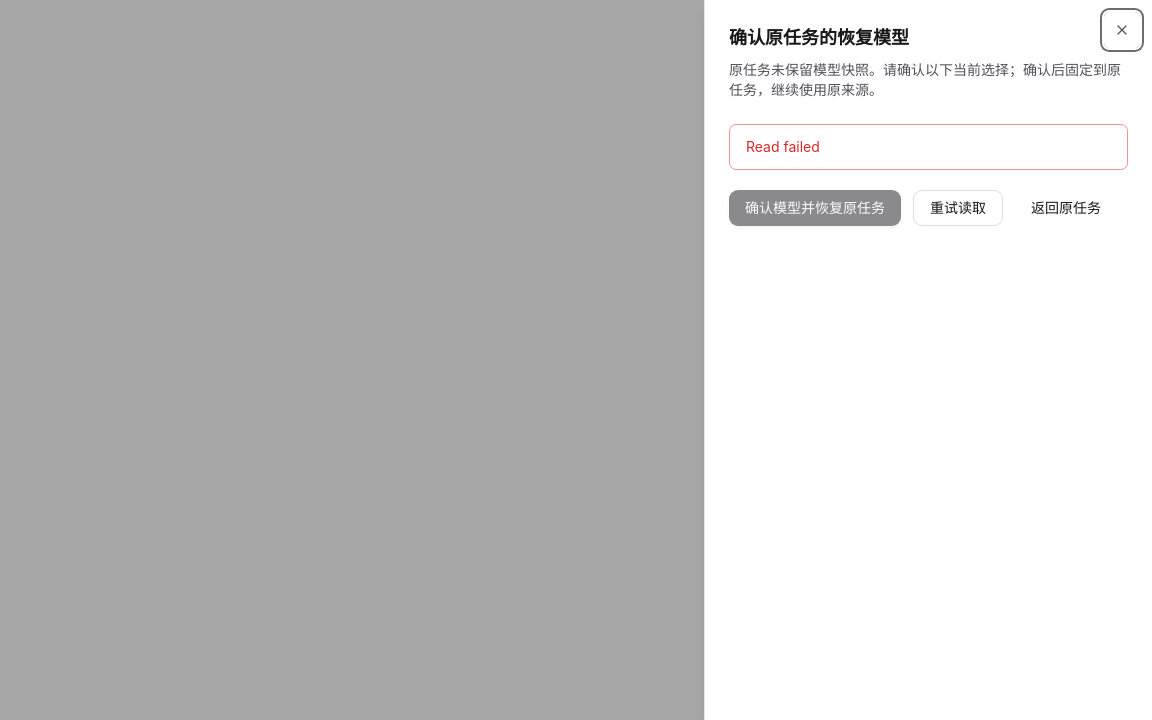
Scenario: retries a failed read and a known rejected confirmation without claiming acceptance
Expected: the text "Read failed" is shown, [746,138,820,155]
Click the button "重试读取".
click(958, 208)  # box [913,190,1003,226]
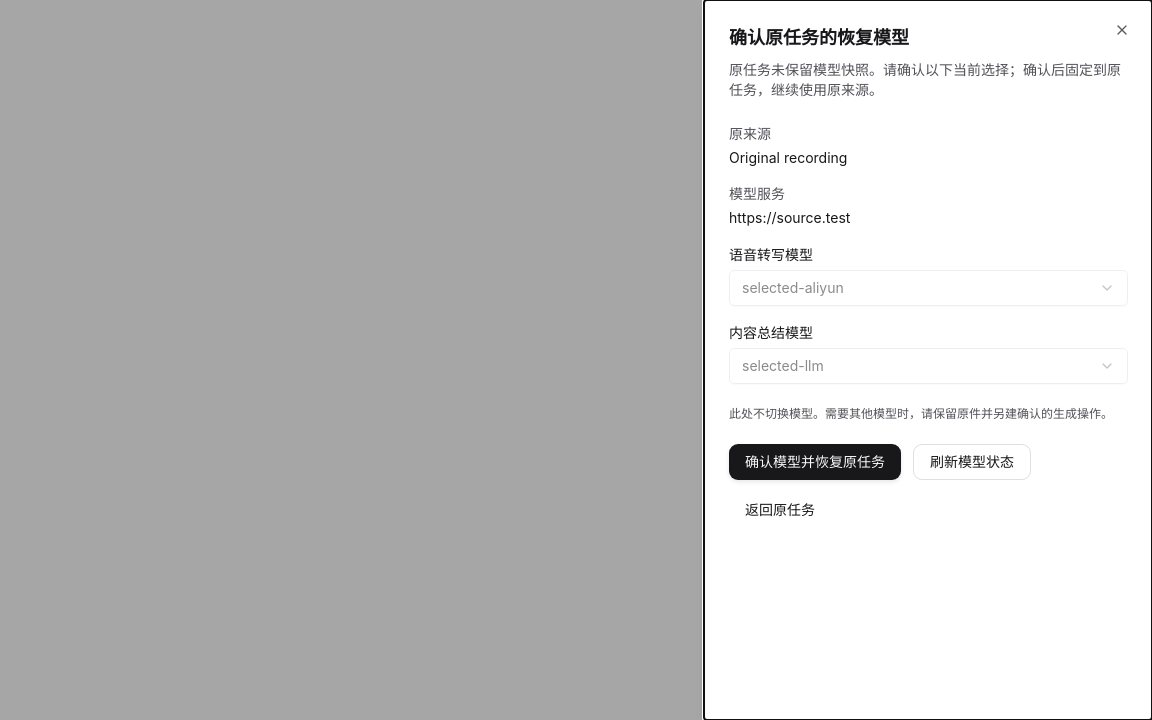
Expected: the text "Original recording" is shown, [729,149,847,166]
Click the button "确认模型并恢复原任务".
click(815, 462)  # box [729,444,901,480]
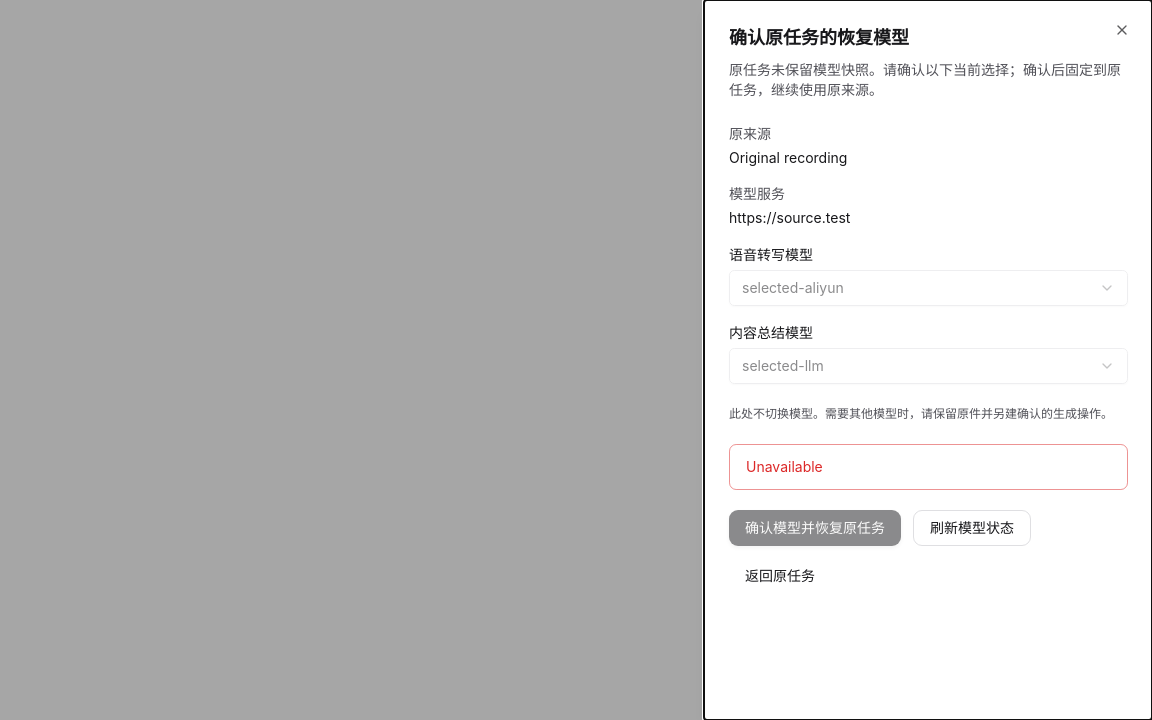
Expected: the text "Unavailable" is shown, [746,458,823,475]
Expected: the button "确认模型并恢复原任务" is disabled, [729,510,901,546]
